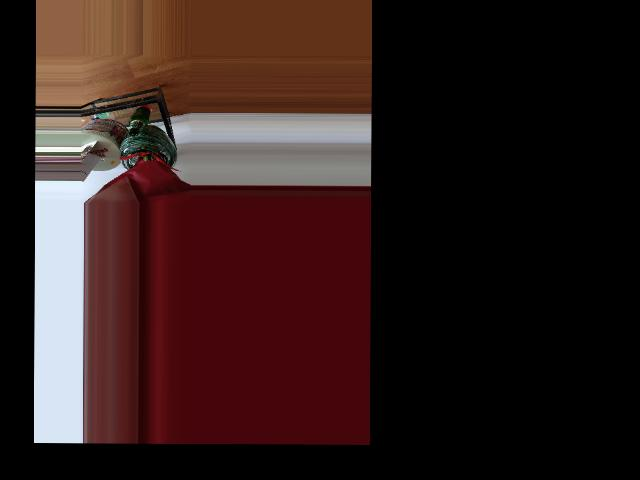beer: (128, 106, 151, 136)
